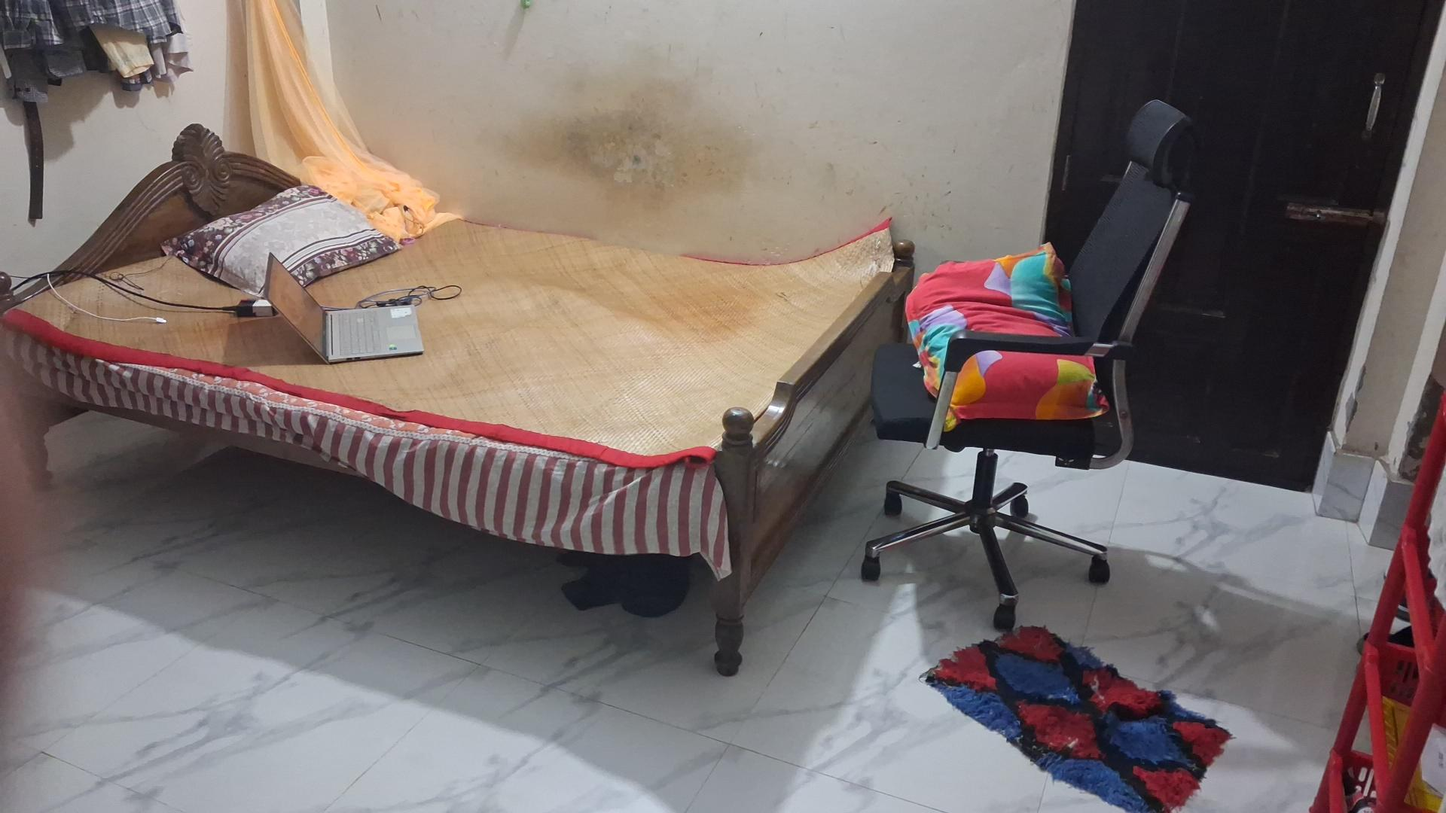Book: (263, 251, 426, 363)
Chair: (861, 99, 1197, 614)
Door: (1058, 2, 1438, 498)
Floor Mat: (902, 618, 1240, 813)
Pillow: (915, 249, 1091, 439), (154, 187, 400, 290)
